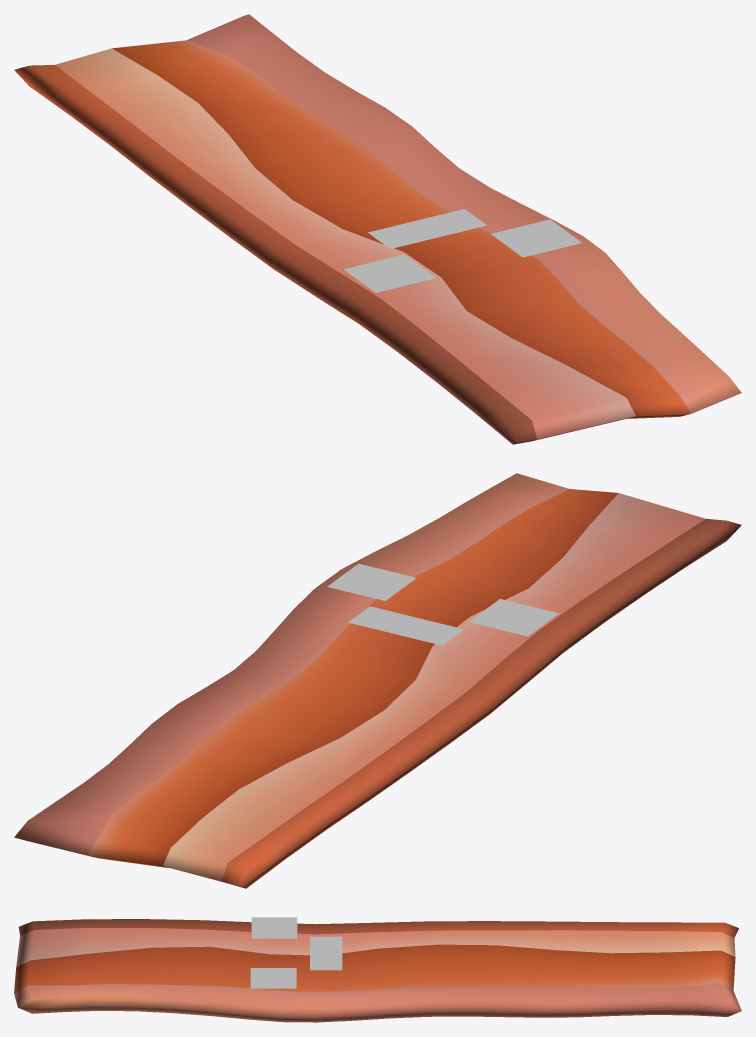
The model's file is bacon_slice_smile.fbx.
3 views of the same model, one above another, from view 1: azimuth 30°, elevation 25°; view 2: azimuth 150°, elevation 25°; view 3: azimuth 270°, elevation 25° (orthographic). The views are drawn at different scales.
Parts seen in each view (by area): view 1: bacon_001, smile_bacon; view 2: bacon_001, smile_bacon; view 3: bacon_001, smile_bacon.
Part boxes in pixels (x1=…): bacon_001: x1=14, y1=14, x2=741, y2=444; smile_bacon: x1=344, y1=209, x2=581, y2=292; bacon_001: x1=14, y1=473, x2=741, y2=888; smile_bacon: x1=327, y1=563, x2=558, y2=645; bacon_001: x1=14, y1=919, x2=741, y2=1022; smile_bacon: x1=250, y1=917, x2=342, y2=988.
Size of the model in its own units: 42.53 by 7.1 by 147.
